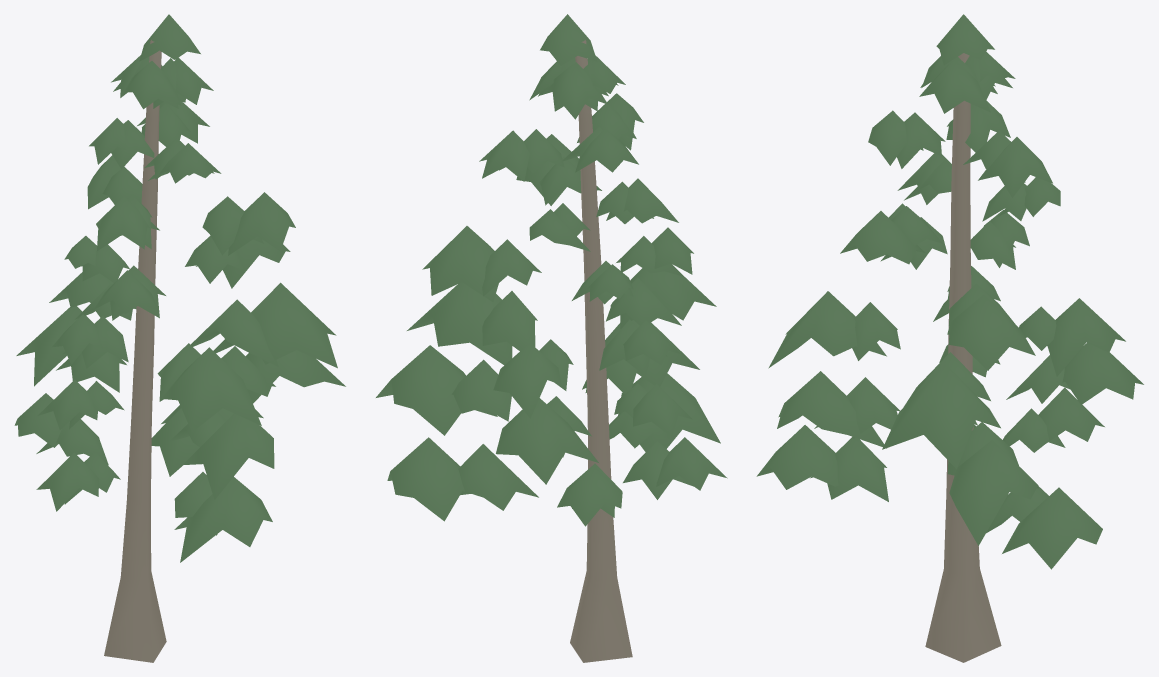
Rendered from Blender_SitkaSpruce_1_Far.glb.
3 renders of one model, left to right at view 1: azimuth 30°, elevation 25°; view 2: azimuth 150°, elevation 25°; view 3: azimuth 270°, elevation 25°, orthographic. The views are drawn at different scales.
Parts seen in each view (by area): view 1: Blender_SitkaSpruce_1_Far; view 2: Blender_SitkaSpruce_1_Far; view 3: Blender_SitkaSpruce_1_Far.
Part boxes in pixels (left/top/right/bottom): Blender_SitkaSpruce_1_Far: left=14, top=14, right=345, bottom=662; Blender_SitkaSpruce_1_Far: left=376, top=14, right=727, bottom=662; Blender_SitkaSpruce_1_Far: left=756, top=14, right=1143, bottom=662.
Size of the model in its own units: 19.03 by 35.54 by 19.24.
